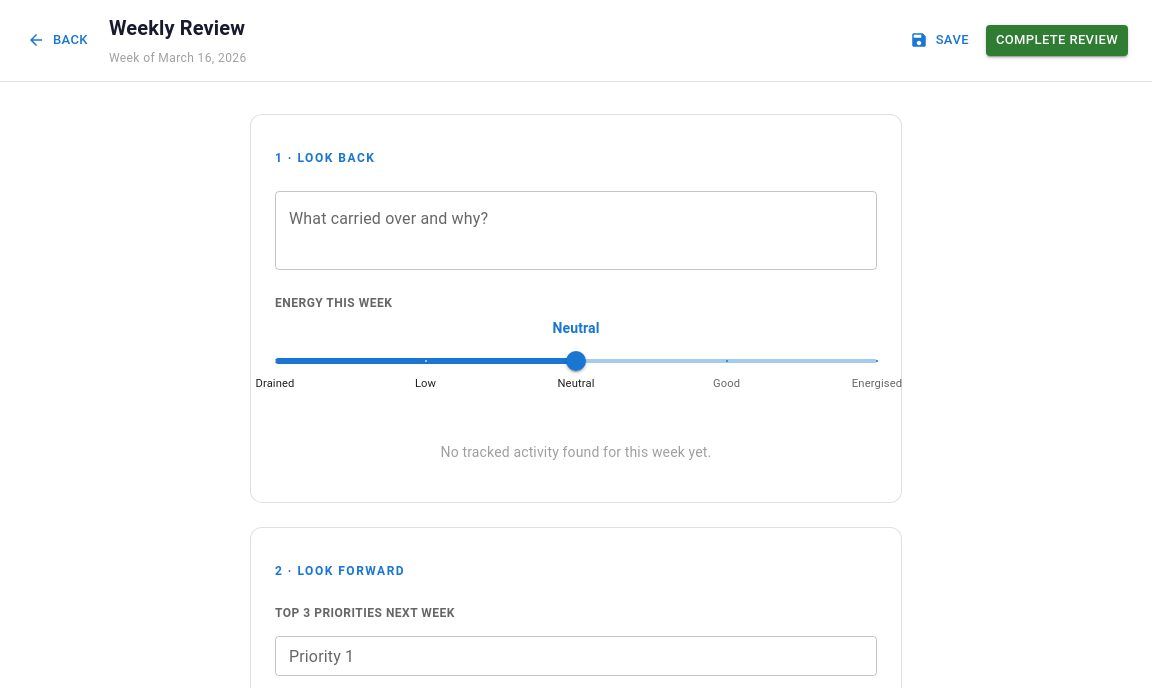
Test case: WeeklyReview — manual save › shows '✓ Saved' after a successful save
Type "Done" into the field labelled "Priority 1" at {"x": 576, "y": 656}, box [275, 636, 877, 676]
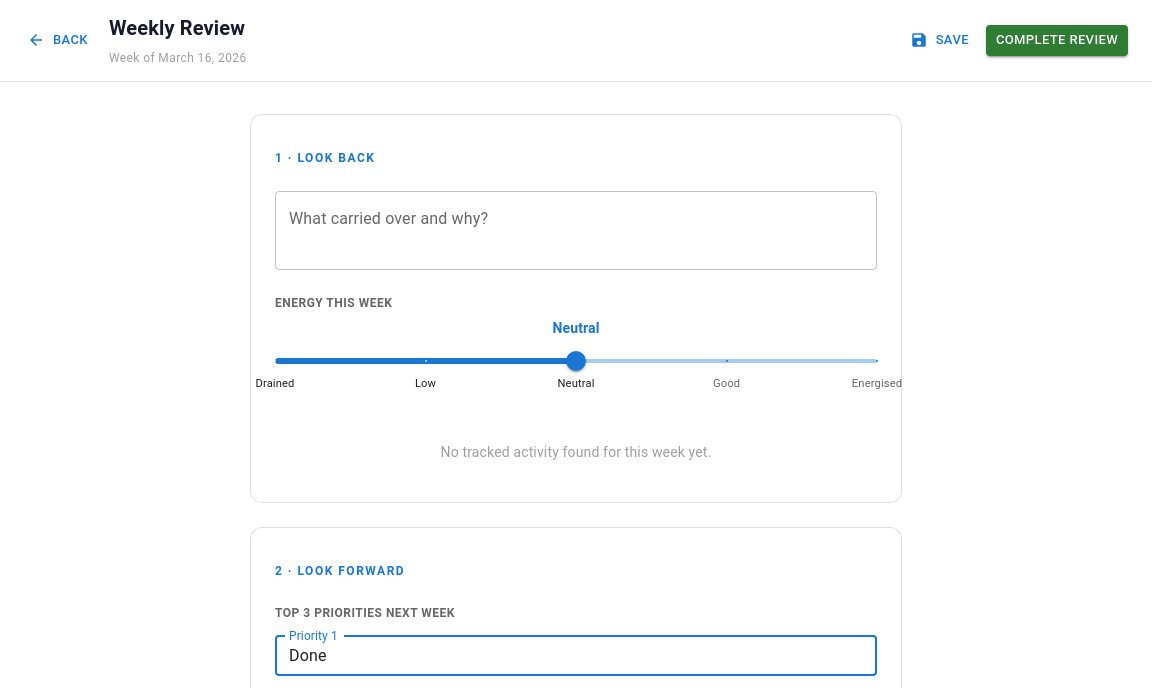
Click the button "Save" at {"x": 940, "y": 40}, box [907, 25, 974, 56]
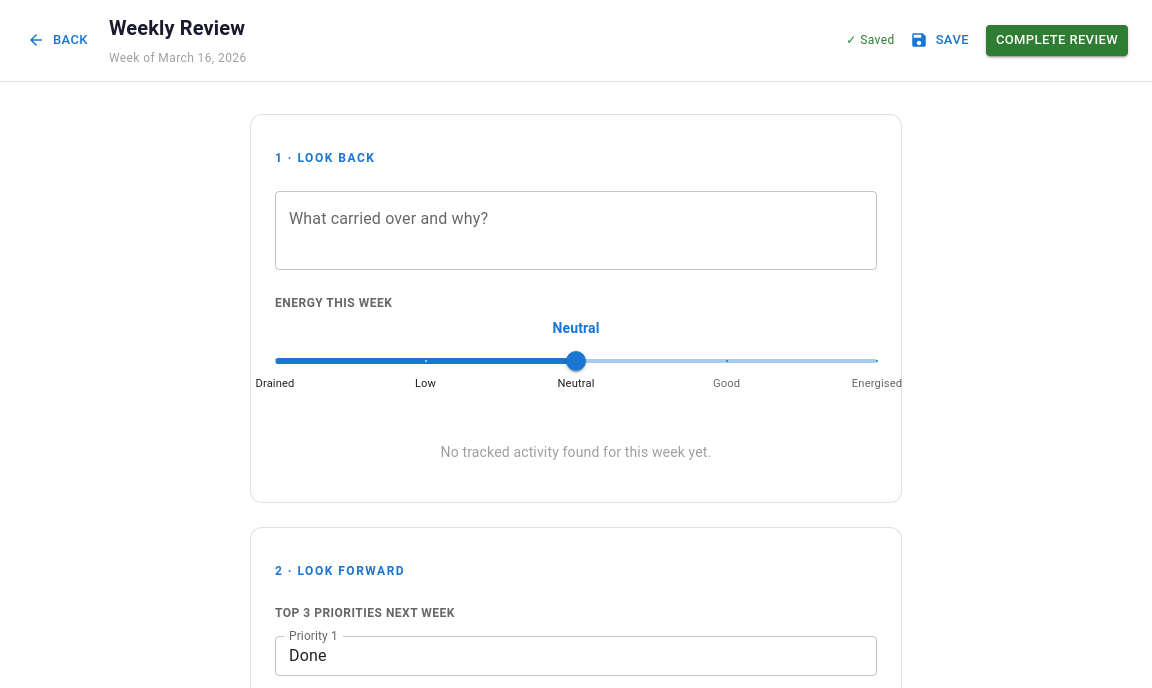
Now the text "✓ Saved" is shown, box [846, 30, 895, 50]
